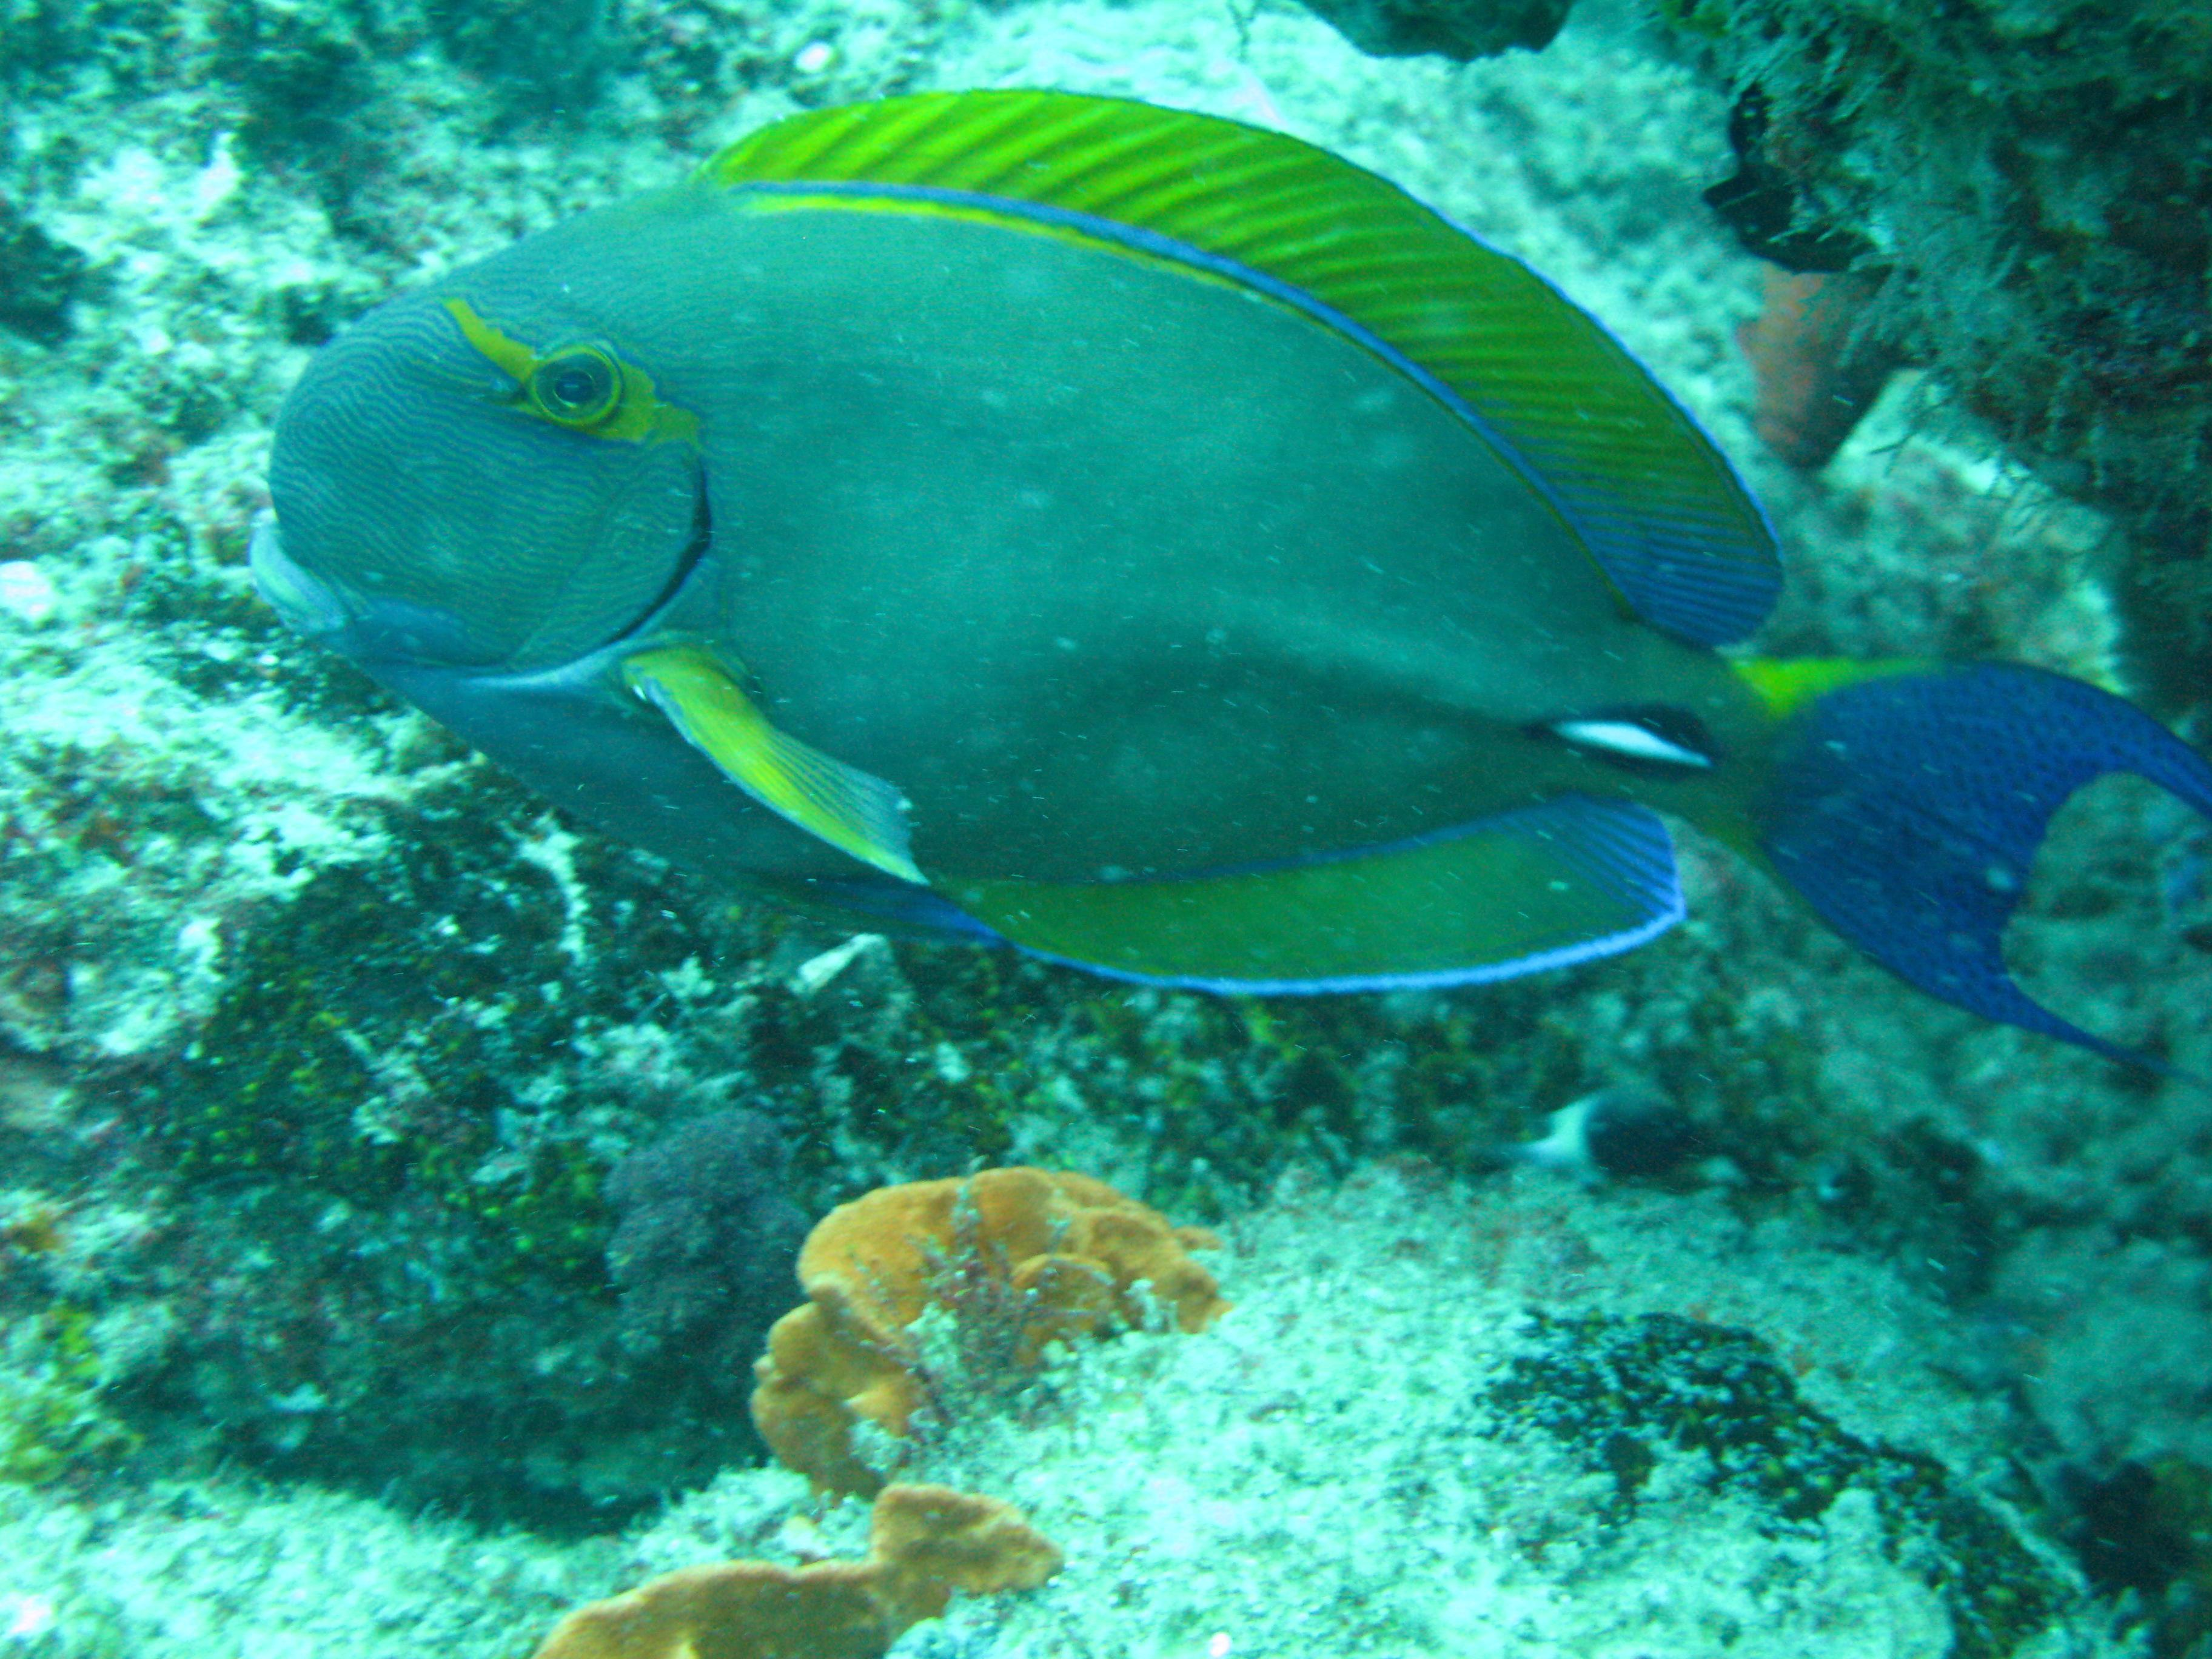Acanthurus dussumieri: (87, 37, 2212, 1218)
